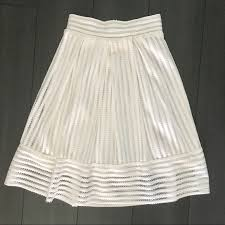C_skirt: (4, 9, 218, 213)
